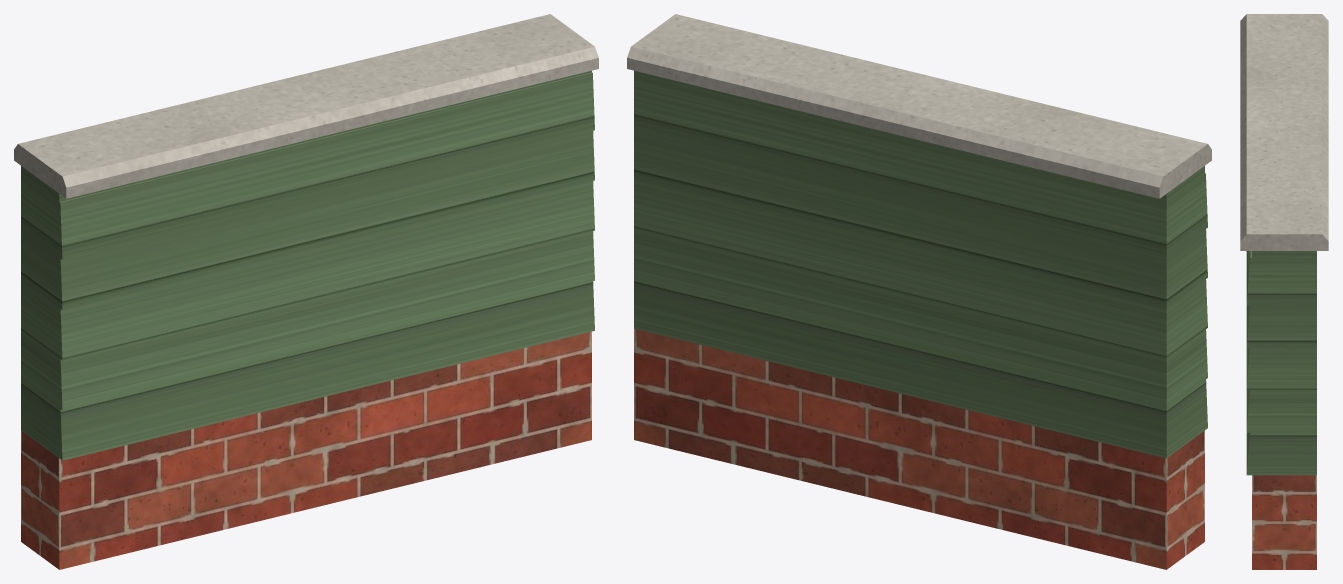
Rendered from porch_front_wall.glb.
3 renders of one model, left to right at view 1: azimuth 30°, elevation 25°; view 2: azimuth 150°, elevation 25°; view 3: azimuth 270°, elevation 25°, orthographic. The views are drawn at different scales.
Visible parts, largest first — view 1: porch_front_wall_siding, porch_front_wall_brick, porch_front_wall_cap; view 2: porch_front_wall_siding, porch_front_wall_brick, porch_front_wall_cap; view 3: porch_front_wall_cap, porch_front_wall_siding, porch_front_wall_brick.
Part boxes in pixels (x1,y1,x2,y2): porch_front_wall_siding: [21, 70, 594, 460]; porch_front_wall_brick: [21, 331, 591, 569]; porch_front_wall_cap: [14, 14, 598, 198]; porch_front_wall_siding: [634, 70, 1207, 458]; porch_front_wall_brick: [634, 328, 1204, 569]; porch_front_wall_cap: [627, 14, 1211, 198]; porch_front_wall_cap: [1240, 14, 1328, 250]; porch_front_wall_siding: [1246, 251, 1316, 475]; porch_front_wall_brick: [1252, 475, 1316, 569].
Bounding box in the file's own units: 2 × 1.42 × 0.34.
3 materials, 3 textured.
